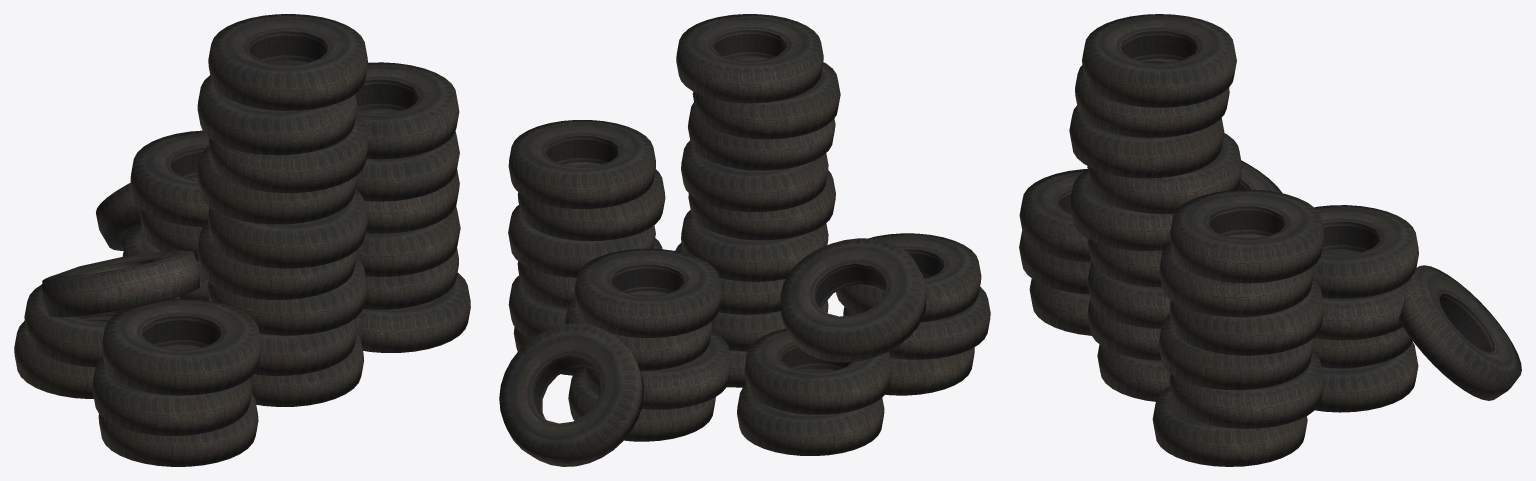
The model's file is tire_stack_c.glb.
3 views of the same model, side by side, from view 1: azimuth 30°, elevation 25°; view 2: azimuth 150°, elevation 25°; view 3: azimuth 270°, elevation 25° (orthographic). The views are drawn at different scales.
Parts seen in each view (by area): view 1: tire_stack_c_LOD0; view 2: tire_stack_c_LOD0; view 3: tire_stack_c_LOD0.
Boxes of the visible parts, x1,y1,x2,y2 form: tire_stack_c_LOD0: (14, 14, 470, 466); tire_stack_c_LOD0: (499, 14, 990, 466); tire_stack_c_LOD0: (1019, 14, 1521, 466).
Size of the model in its own units: 4.79 by 3.66 by 5.06.
1 material, 1 textured.
